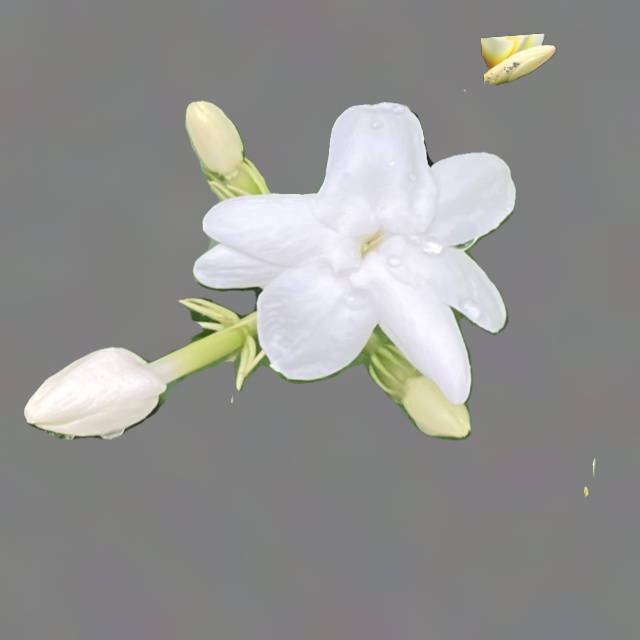frangipani: (481, 33, 555, 84)
jasmine: (24, 89, 595, 496)
